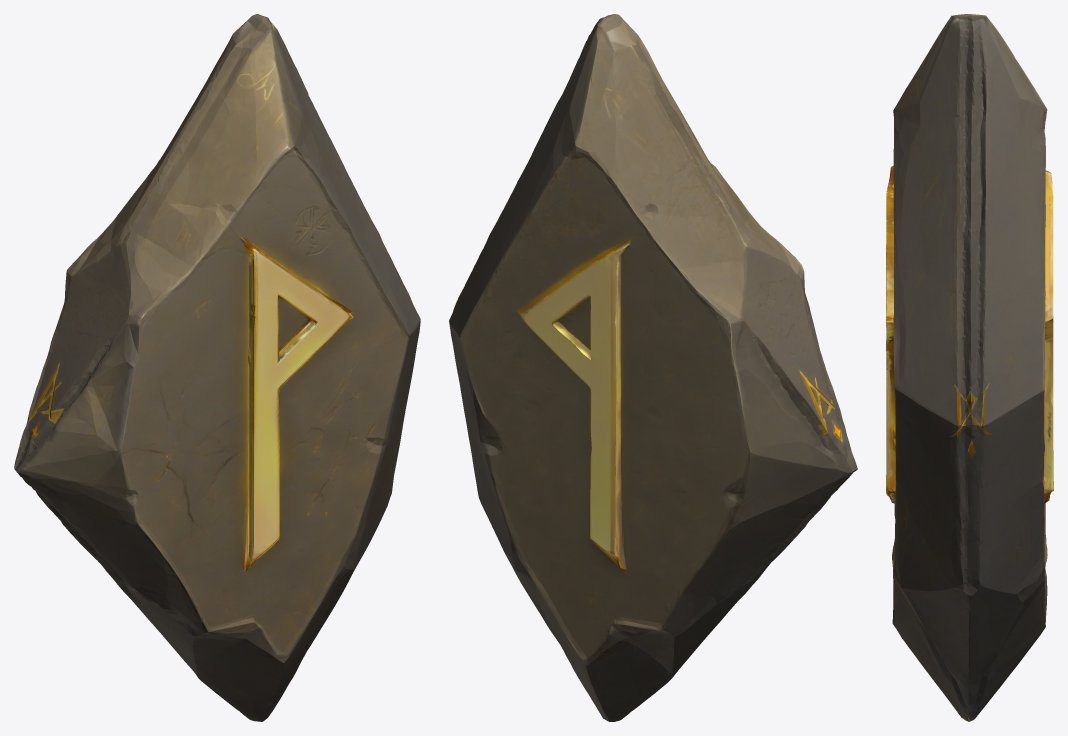
The model's file is Rune_Stone_Glow_0527023337_texture.fbx.
3 renders of one model, left to right at view 1: azimuth 30°, elevation 25°; view 2: azimuth 150°, elevation 25°; view 3: azimuth 270°, elevation 25°, orthographic.
Parts seen in each view (by area): view 1: temp; view 2: temp; view 3: temp.
Part boxes in pixels (<box>): temp: <box>14,14,420,721</box>; temp: <box>449,14,857,721</box>; temp: <box>886,14,1053,721</box>.
Bounding box in the file's own units: 120 × 200 × 43.15.
1 material, 1 textured.
